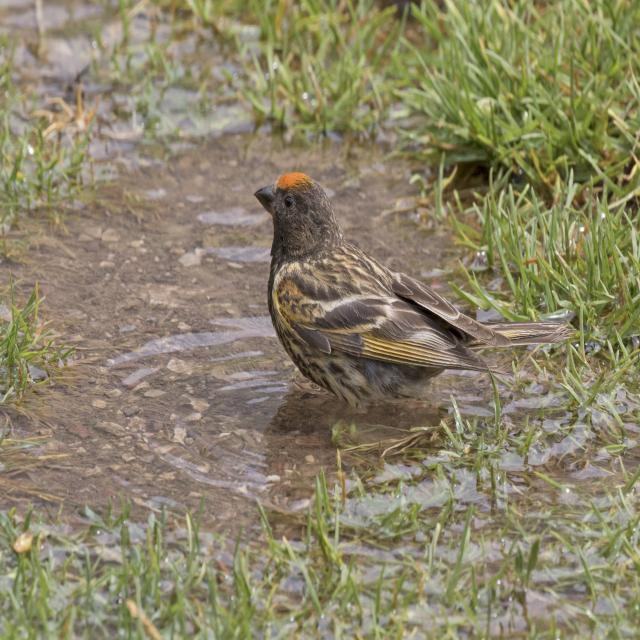bird: (236, 148, 560, 476)
